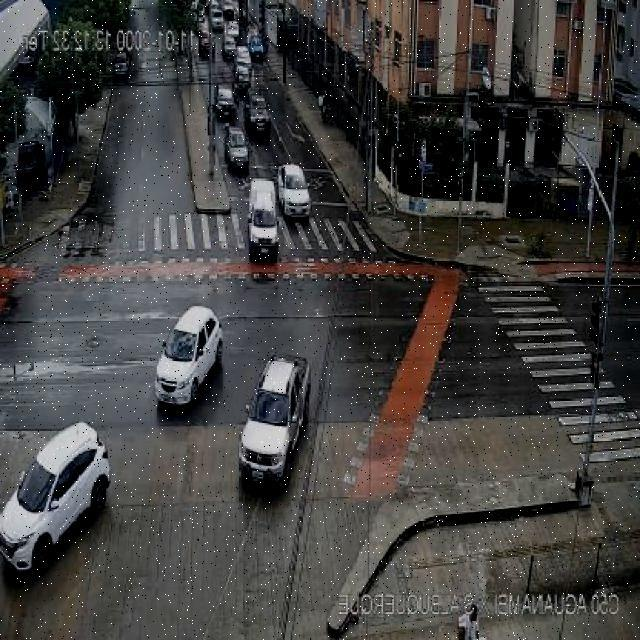Car: (1, 421, 111, 577), (238, 354, 311, 489), (153, 304, 222, 407), (276, 162, 311, 218), (224, 127, 250, 172), (246, 96, 270, 138), (215, 88, 237, 121), (112, 51, 130, 80), (222, 31, 238, 59), (209, 2, 224, 31)
Truck: (246, 179, 280, 262)
